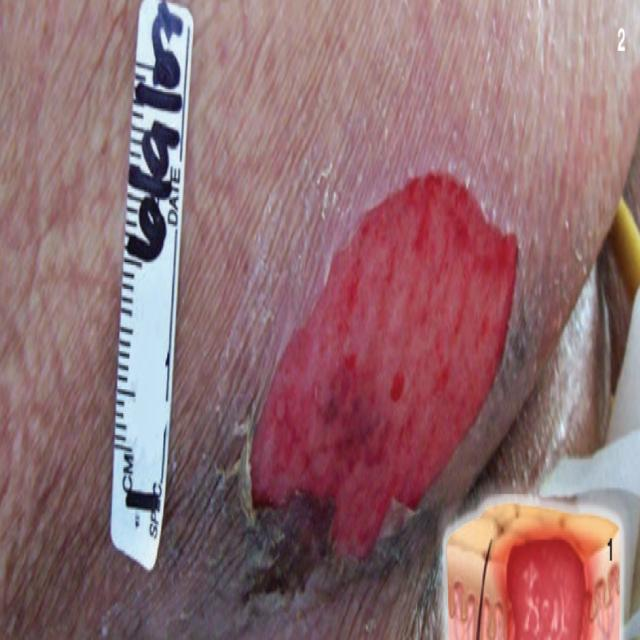stage-2: (251, 173, 518, 557)
